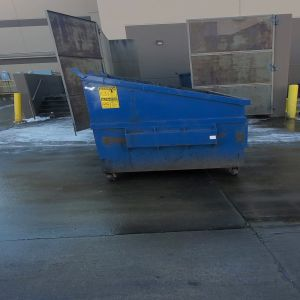Dumpster: (83, 75, 253, 182)
